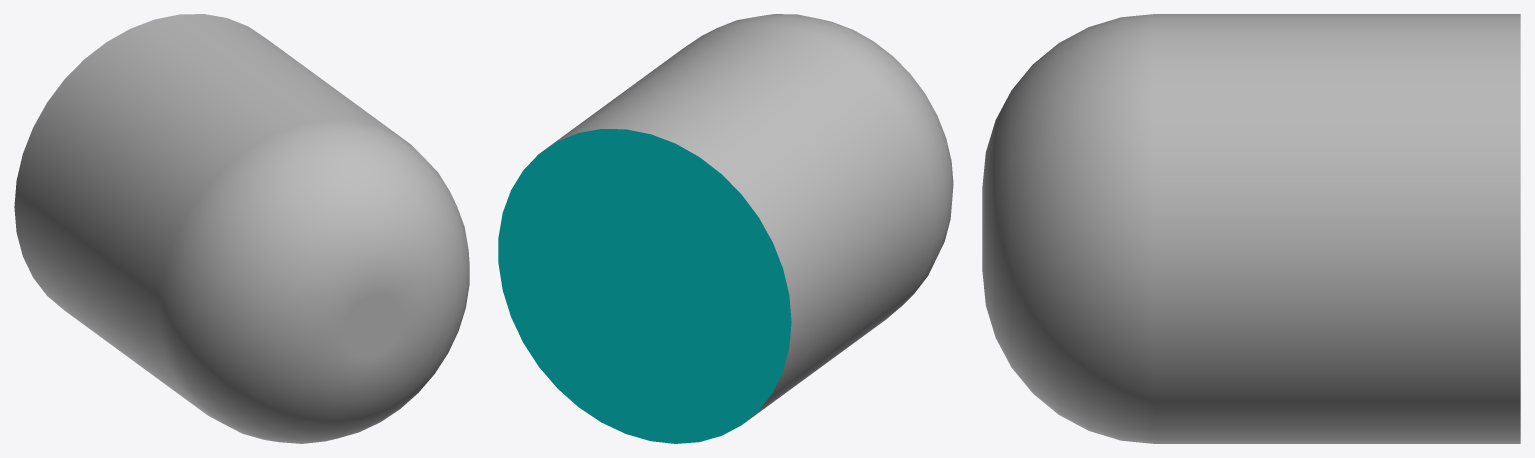
File: TankyTurretShot.fbx
The picture shows the model from 3 angles, left to right: view 1: azimuth 30°, elevation 25°; view 2: azimuth 150°, elevation 25°; view 3: azimuth 270°, elevation 25°; orthographic projection. The views are drawn at different scales.
Parts seen in each view (by area): view 1: Turret_Shot v1; view 2: Turret_Shot v1; view 3: Turret_Shot v1.
Boxes of the visible parts, bbox=[...] form: Turret_Shot v1: bbox=[14, 14, 469, 443]; Turret_Shot v1: bbox=[498, 14, 953, 443]; Turret_Shot v1: bbox=[982, 14, 1520, 443].
Size of the model in its own units: 19.96 by 19.98 by 25.
